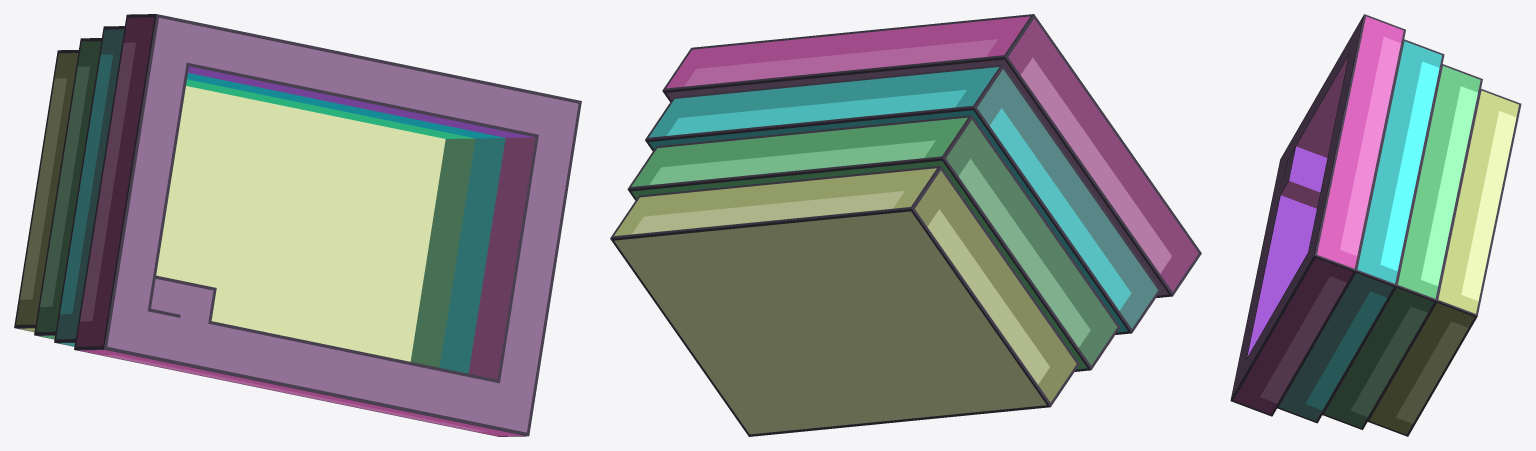
File: Burbuja Bismuto.obj
3 views of the same model, side by side, from view 1: azimuth 30°, elevation 25°; view 2: azimuth 150°, elevation 25°; view 3: azimuth 270°, elevation 25° (orthographic). The views are drawn at different scales.
Visible parts, largest first — view 1: ID425, ID331, ID284, ID678, ID399, ID620, ID318, ID305, ID177, ID138, ID99, ID502 (+11 smaller); view 2: ID641, ID318, ID344, ID502, ID557, ID39.002, ID203, ID462, ID412, ID65.001, ID284, ID250 (+12 smaller); view 3: ID344, ID557, ID203, ID331, ID462, ID565, ID528, ID670, ID151, ID541, ID549, ID446 (+14 smaller).
Boxes of the visible parts, x1=… form: ID425: x1=156, y1=86, x2=445, y2=361; ID331: x1=107, y1=18, x2=578, y2=432; ID284: x1=74, y1=14, x2=581, y2=436; ID678: x1=468, y1=137, x2=535, y2=379; ID399: x1=439, y1=138, x2=505, y2=373; ID620: x1=410, y1=138, x2=475, y2=367; ID318: x1=76, y1=17, x2=154, y2=346; ID305: x1=147, y1=62, x2=538, y2=383; ID177: x1=80, y1=42, x2=135, y2=321; ID138: x1=60, y1=54, x2=112, y2=314; ID99: x1=40, y1=66, x2=89, y2=306; ID502: x1=56, y1=29, x2=124, y2=339; ID641: x1=614, y1=211, x2=1046, y2=434; ID318: x1=1008, y1=18, x2=1198, y2=291; ID344: x1=666, y1=16, x2=1029, y2=88; ID502: x1=977, y1=69, x2=1157, y2=328; ID557: x1=649, y1=67, x2=998, y2=137; ID39.002: x1=946, y1=120, x2=1117, y2=365; ID203: x1=631, y1=117, x2=967, y2=186; ID462: x1=614, y1=168, x2=936, y2=235; ID412: x1=915, y1=170, x2=1076, y2=402; ID65.001: x1=610, y1=166, x2=1079, y2=436; ID284: x1=662, y1=14, x2=1201, y2=297; ID250: x1=645, y1=64, x2=1160, y2=334; ID344: x1=1317, y1=16, x2=1403, y2=268; ID557: x1=1357, y1=41, x2=1441, y2=283; ID203: x1=1398, y1=66, x2=1480, y2=298; ID331: x1=1231, y1=18, x2=1362, y2=397; ID462: x1=1438, y1=90, x2=1518, y2=313; ID565: x1=1247, y1=195, x2=1316, y2=356; ID528: x1=1340, y1=37, x2=1400, y2=255; ID670: x1=1233, y1=258, x2=1352, y2=414; ID151: x1=1380, y1=61, x2=1439, y2=270; ID541: x1=1279, y1=273, x2=1393, y2=420; ID549: x1=1421, y1=86, x2=1477, y2=285; ID446: x1=1324, y1=288, x2=1433, y2=427.
Bounding box in the file's own units: 8.65 × 7.86 × 6.22.
